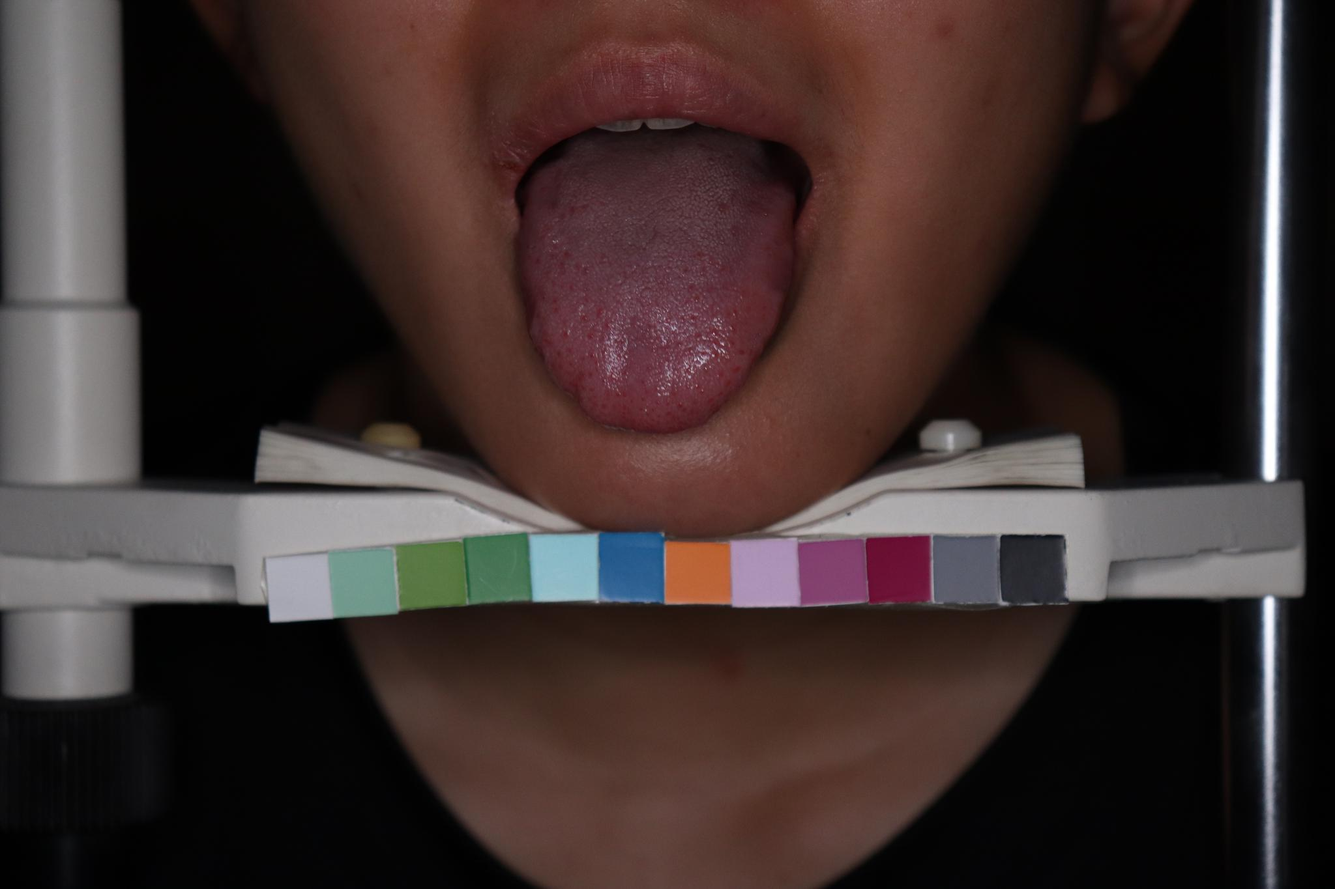baitaishe: (516, 131, 794, 434)
hongdianshe: (561, 328, 571, 339), (596, 305, 604, 318), (674, 399, 684, 409), (585, 330, 594, 341), (692, 292, 700, 304), (730, 308, 739, 318), (737, 346, 745, 357), (589, 349, 596, 360), (693, 382, 699, 390)
